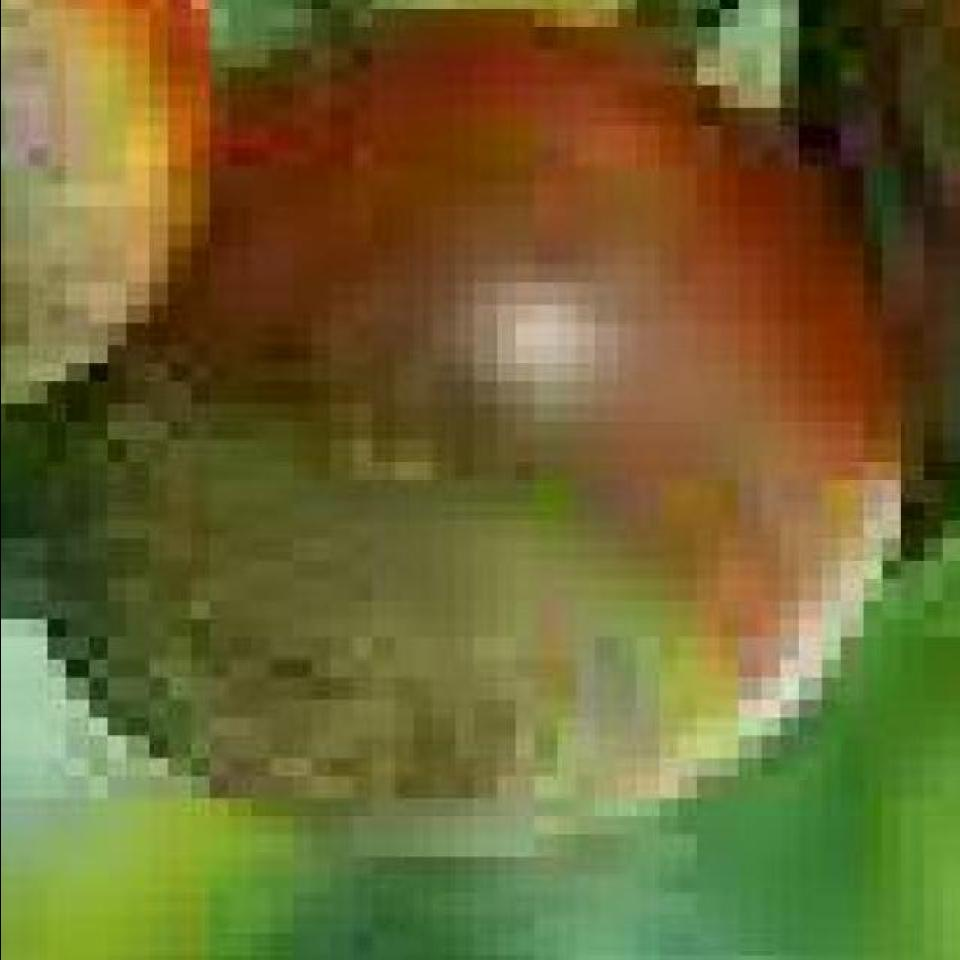Blossom_end_rot: (5, 4, 93, 372)
Sunscald: (51, 368, 793, 866)
